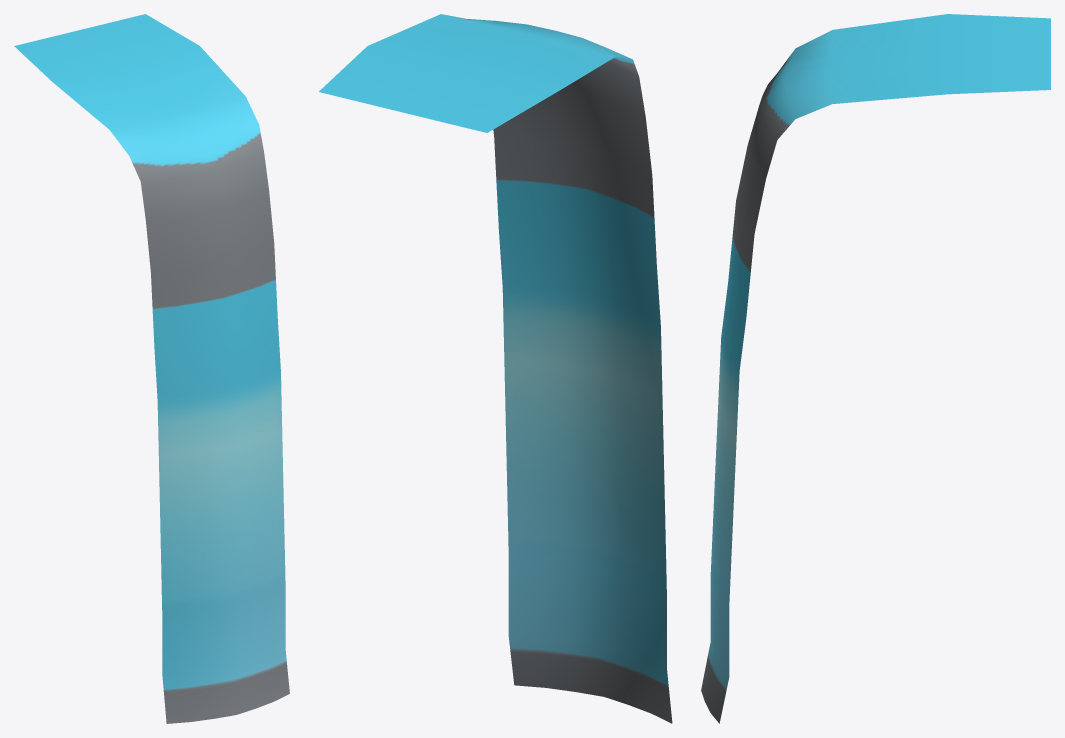
Rendered from waterfall 2.fbx.
3 renders of one model, left to right at view 1: azimuth 30°, elevation 25°; view 2: azimuth 150°, elevation 25°; view 3: azimuth 270°, elevation 25°, orthographic. The views are drawn at different scales.
Parts seen in each view (by area): view 1: waterfall_moderu01; view 2: waterfall_moderu01; view 3: waterfall_moderu01.
Boxes of the visible parts, box(x1,y1,x2,y2) form: waterfall_moderu01: box(14, 14, 289, 723); waterfall_moderu01: box(319, 14, 672, 723); waterfall_moderu01: box(701, 14, 1050, 723).
Bounding box in the file's own units: 79.84 × 295 × 147.
